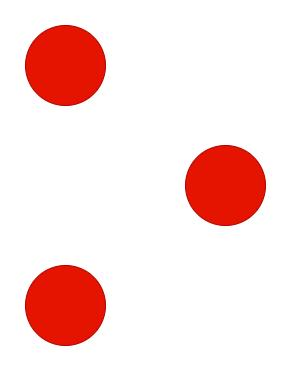O: (19, 19, 272, 352)
